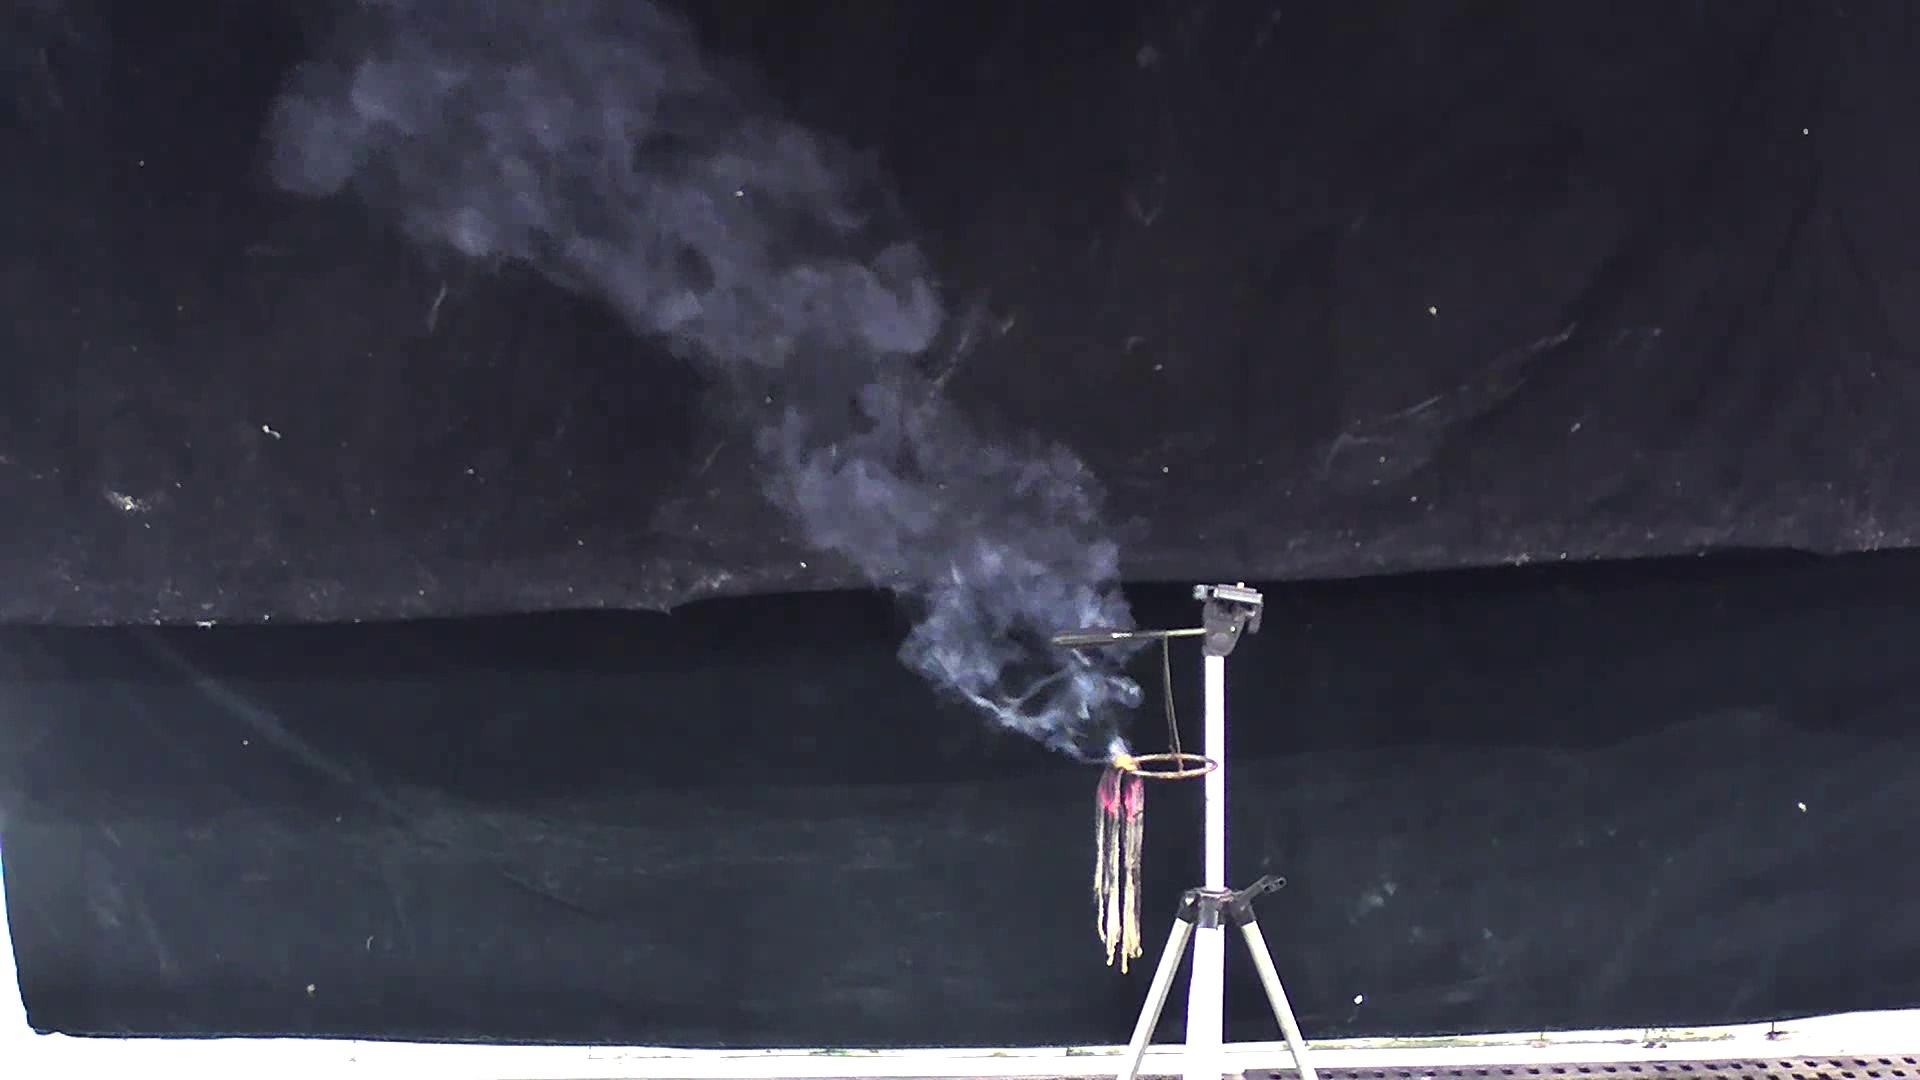smoke: (272, 28, 1154, 756)
